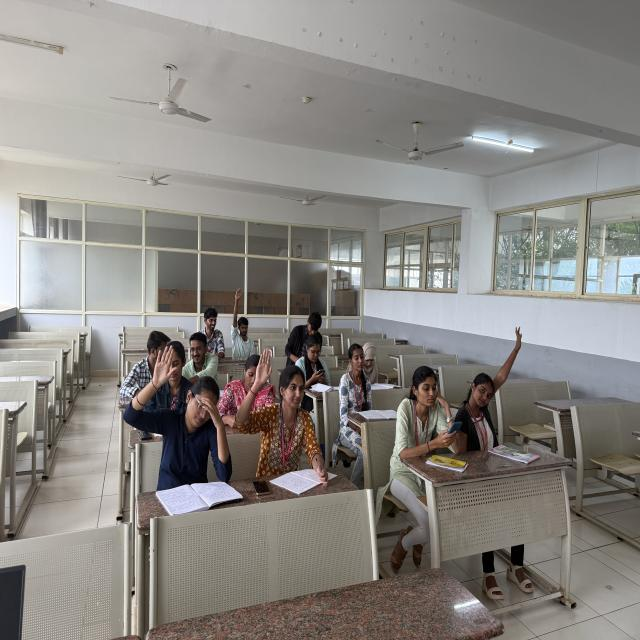Hand Rising: (122, 344, 233, 487), (461, 315, 535, 461), (232, 350, 316, 467), (230, 282, 258, 362)
Using Phone: (396, 367, 465, 471), (295, 337, 340, 399)
